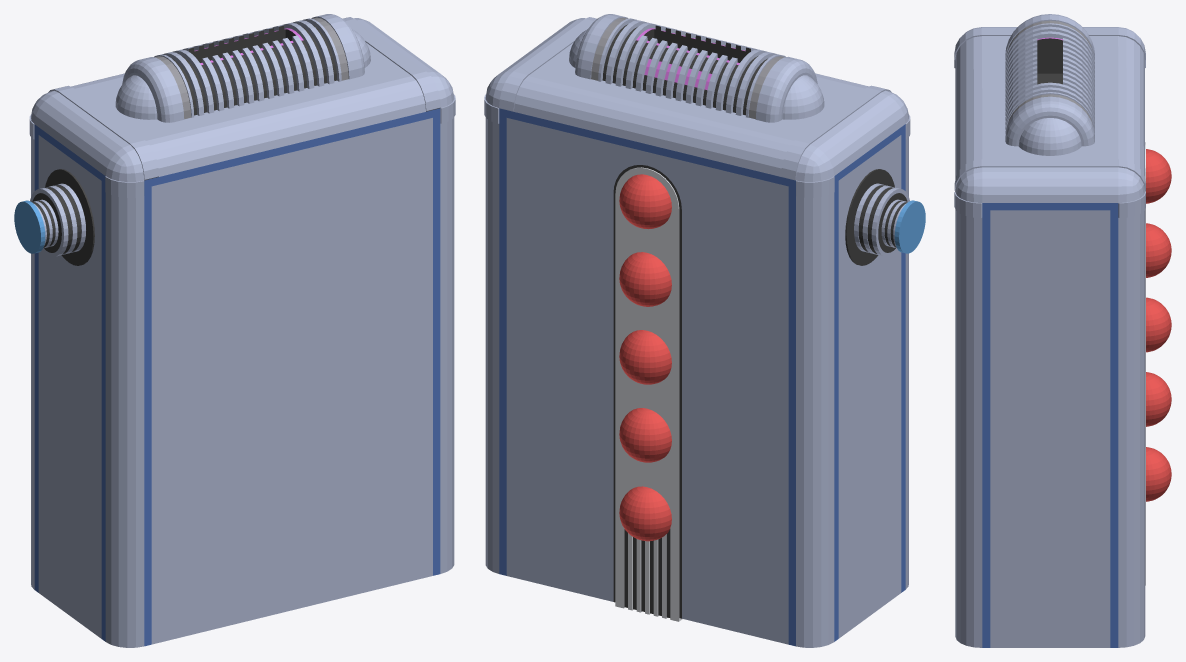
Rendered from Tubby Toaster.fbx.
3 views of the same model, side by side, from view 1: azimuth 30°, elevation 25°; view 2: azimuth 150°, elevation 25°; view 3: azimuth 270°, elevation 25° (orthographic). The views are drawn at different scales.
Visible parts, largest first — view 1: toaster, toaster.button; view 2: toaster, toaster.button, toaster.light.005, toaster.light.002, toaster.light.003, toaster.light.001, toaster.light.004; view 3: toaster, toaster.light.003, toaster.light.001, toaster.light.002, toaster.light.004, toaster.light.005.
Boxes of the visible parts, x1,y1,x2,y2 form: toaster: [29, 14, 455, 647]; toaster.button: [14, 183, 85, 257]; toaster: [484, 14, 910, 647]; toaster.button: [854, 183, 925, 256]; toaster.light.005: [619, 486, 671, 541]; toaster.light.002: [619, 252, 671, 306]; toaster.light.003: [619, 330, 671, 384]; toaster.light.001: [619, 174, 671, 229]; toaster.light.004: [619, 408, 671, 462]; toaster: [954, 14, 1145, 647]; toaster.light.003: [1146, 297, 1171, 352]; toaster.light.001: [1146, 149, 1171, 203]; toaster.light.002: [1146, 223, 1171, 277]; toaster.light.004: [1146, 372, 1171, 426]; toaster.light.005: [1146, 447, 1171, 501].
Bounding box in the file's own units: 159 × 211 × 80.89.
